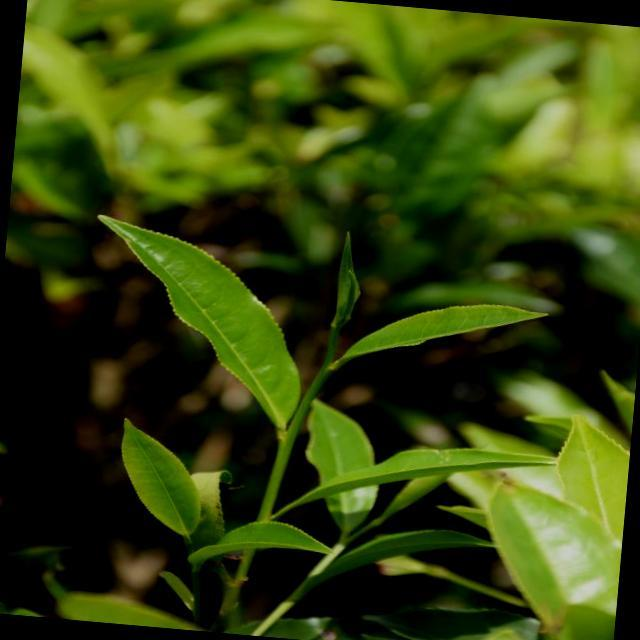Stem: (313, 367, 330, 384)
